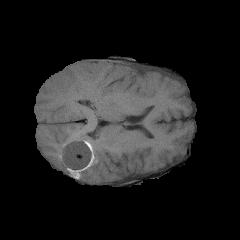glioma: (47, 62, 161, 177)
